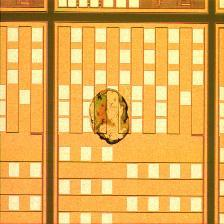COATING BAD: (87, 88, 133, 148)
